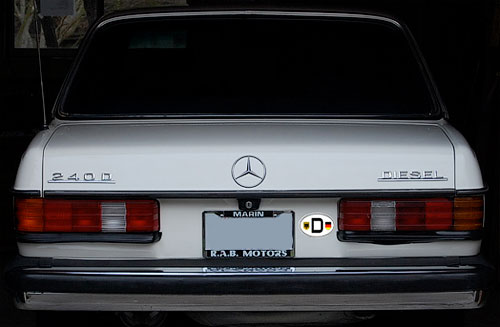license plate: (200, 208, 297, 261)
